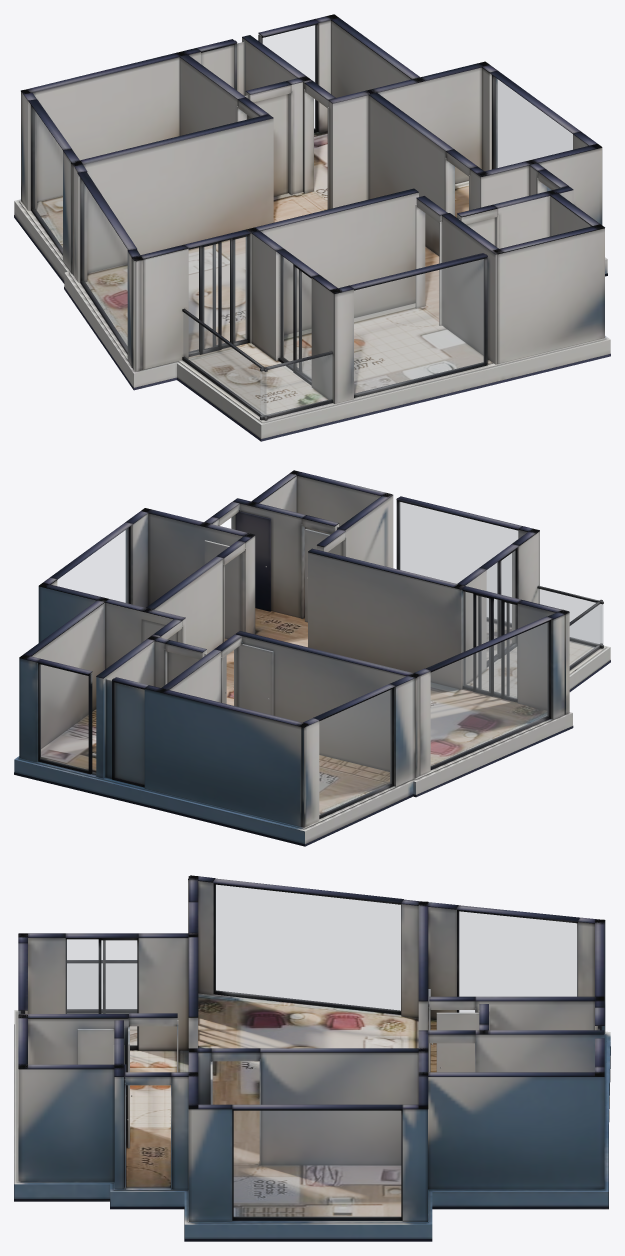
3 renders of one model, top to bottom at view 1: azimuth 30°, elevation 25°; view 2: azimuth 150°, elevation 25°; view 3: azimuth 270°, elevation 25°, orthographic. The views are drawn at different scales.
Visible parts, largest first — view 1: plan, glass6_m, glass2_m, glass1_m, glass5_m, railg1_m, railg0_m, glass0_m, glass7_m, glass3_m; view 2: plan, glass1_m, glass0_m, glass6_m, glass3_m, glass2_m, glass5_m, glass4_m, railg0_m, railg1_m, glass7_m; view 3: plan, glass1_m, glass5_m, glass0_m, glass7_m, railg1_m.
Boxes of the visible parts, x1,y1,x2,y2 form: plan: (14, 14, 610, 441); glass6_m: (354, 259, 484, 394); glass2_m: (189, 237, 246, 352); glass1_m: (82, 181, 127, 347); glass5_m: (494, 77, 572, 168); railg1_m: (183, 312, 266, 416); railg0_m: (260, 354, 332, 416); glass0_m: (33, 109, 62, 250); glass7_m: (279, 255, 311, 379); glass3_m: (263, 25, 315, 128); plan: (14, 470, 610, 846); glass1_m: (431, 622, 548, 766); glass0_m: (319, 689, 391, 815); glass6_m: (400, 502, 517, 596); glass3_m: (40, 664, 88, 770); glass2_m: (463, 591, 516, 698); glass5_m: (57, 528, 128, 603); glass4_m: (115, 683, 143, 783); railg0_m: (538, 589, 603, 645); railg1_m: (570, 604, 601, 666); glass7_m: (487, 551, 514, 641); plan: (14, 875, 610, 1241); glass1_m: (215, 885, 400, 1010); glass5_m: (234, 1111, 400, 1216); glass0_m: (459, 911, 576, 1012); glass7_m: (66, 939, 136, 1045); railg1_m: (67, 964, 136, 1008).
Size of the model in its own units: 10.14 by 2.62 by 10.82.
Materials: 2 (1 with a texture image).
